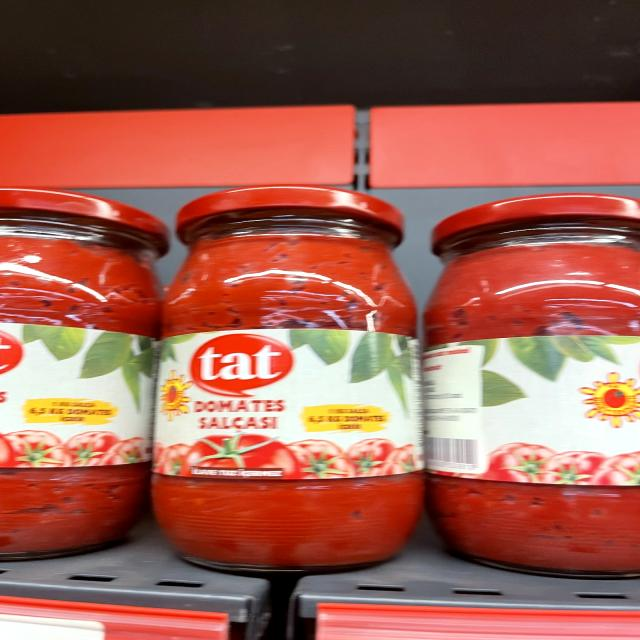tomato paste: (160, 186, 412, 557), (428, 194, 640, 569)
